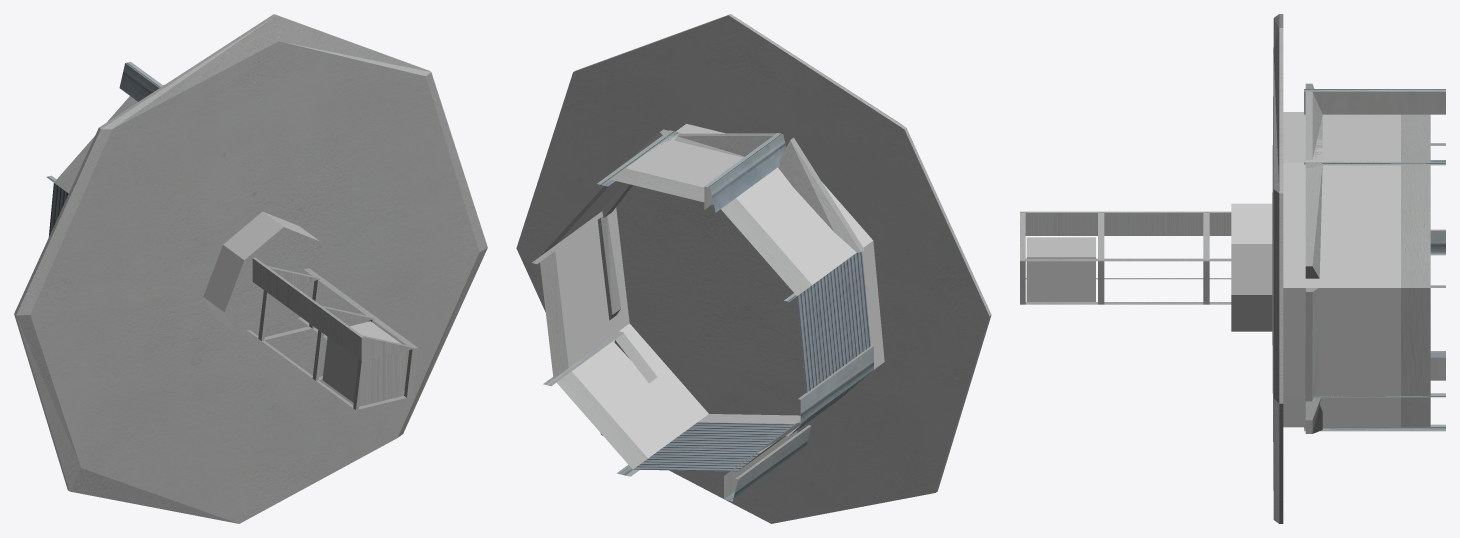
Rendered from nunne_17-origo.obj.
The picture shows the model from 3 angles, left to right: view 1: azimuth 30°, elevation 25°; view 2: azimuth 150°, elevation 25°; view 3: azimuth 270°, elevation 25°; orthographic projection. The views are drawn at different scales.
Parts seen in each view (by area): view 1: nunne_17_Cylinder.007; view 2: nunne_17_Cylinder.007; view 3: nunne_17_Cylinder.007.
Boxes of the visible parts, x1,y1,x2,y2 form: nunne_17_Cylinder.007: (14,14,487,523); nunne_17_Cylinder.007: (516,14,991,523); nunne_17_Cylinder.007: (1020,14,1445,523).
Bounding box in the file's own units: 10.44 × 10.5 × 8.41.
